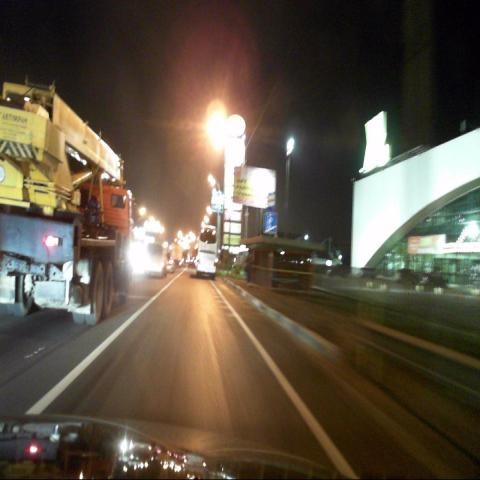6_6: (264, 212, 276, 233)
